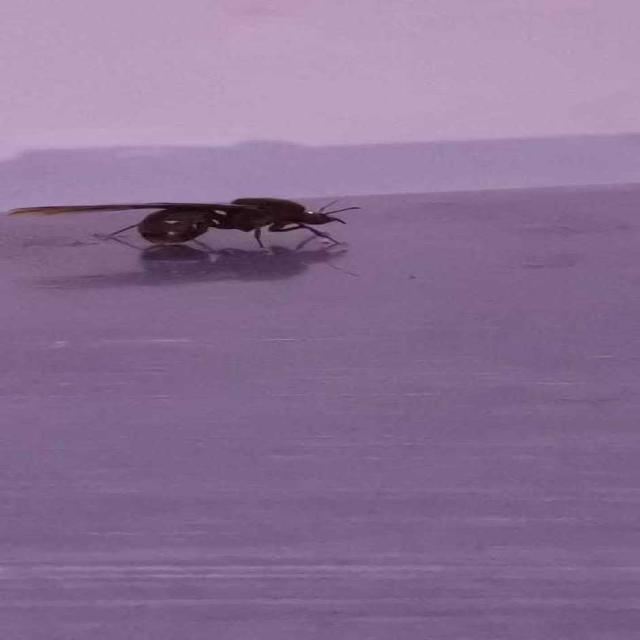Alive-Female-Alate: (8, 198, 361, 248)
